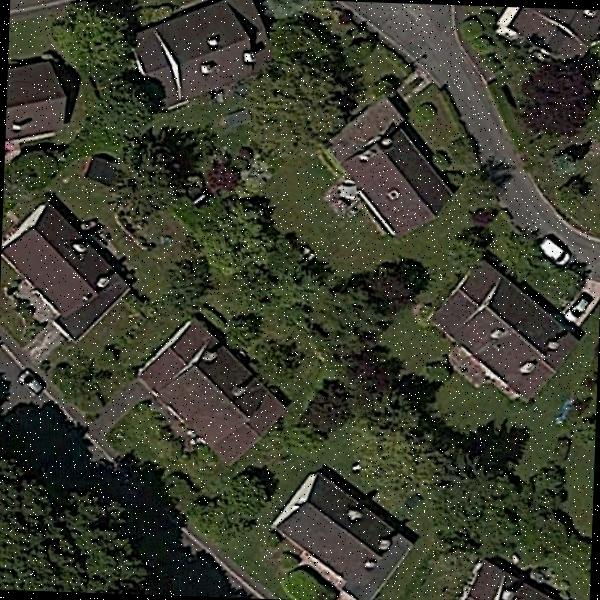Buildings: (277, 488, 405, 600), (436, 274, 563, 382), (146, 336, 272, 444), (340, 105, 429, 240), (4, 214, 106, 316), (133, 13, 256, 86), (495, 6, 600, 57), (6, 65, 76, 141), (463, 556, 573, 600)
